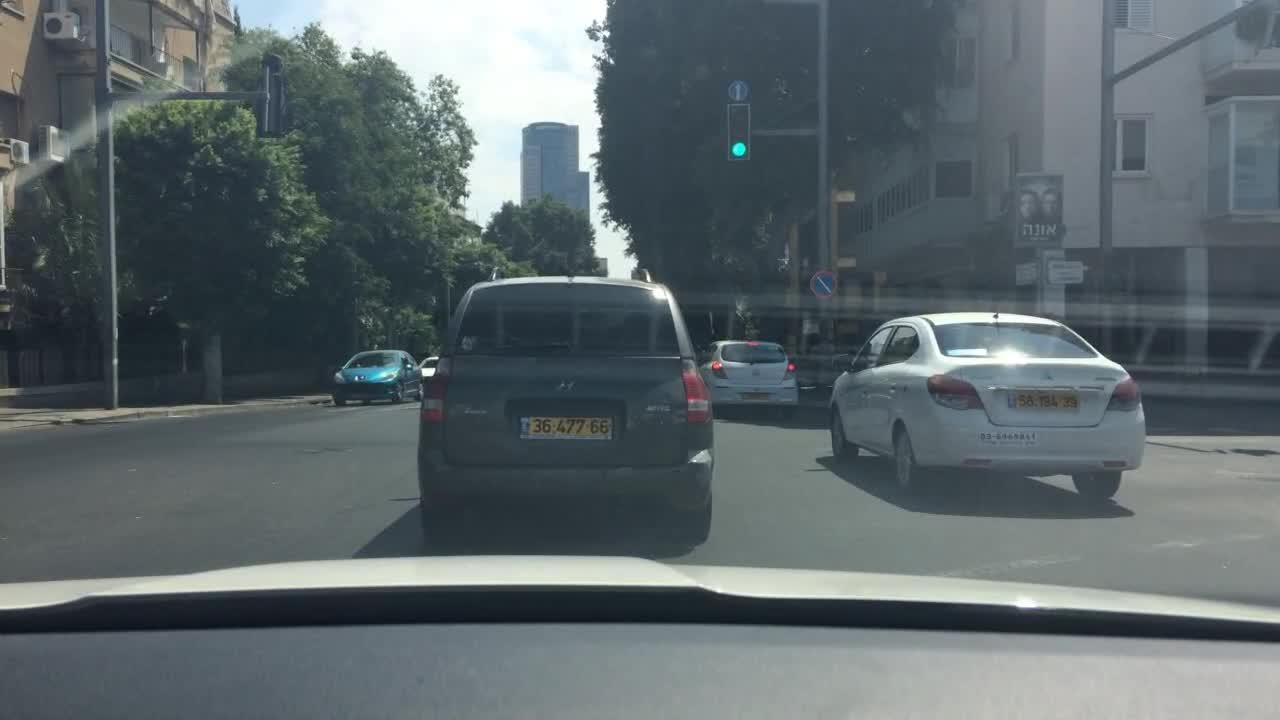Hyundai: (554, 376, 581, 398)
